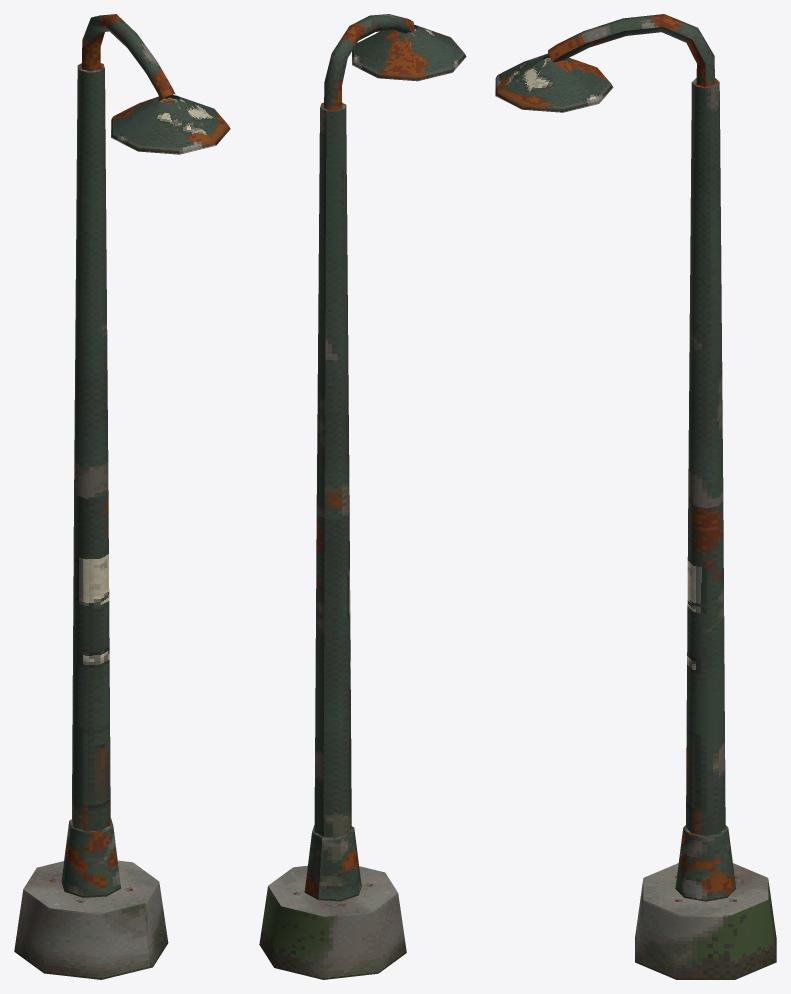
File: street_lamp.glb
The picture shows the model from 3 angles, left to right: view 1: azimuth 30°, elevation 25°; view 2: azimuth 150°, elevation 25°; view 3: azimuth 270°, elevation 25°; orthographic projection. The views are drawn at different scales.
Parts seen in each view (by area): view 1: street_lamp; view 2: street_lamp; view 3: street_lamp.
Boxes of the visible parts, left/top/right/bottom form: street_lamp: left=14, top=14, right=230, bottom=979; street_lamp: left=259, top=14, right=466, bottom=979; street_lamp: left=495, top=14, right=776, bottom=979.
Size of the model in its own units: 0.6282 by 4.58 by 1.25.
Materials: 2 (2 with a texture image).
